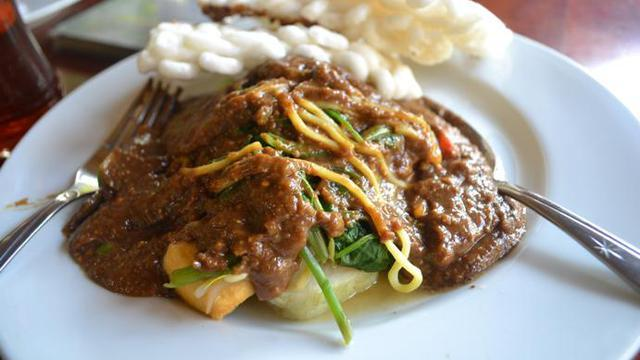rujak_cingur: (60, 58, 528, 343)
